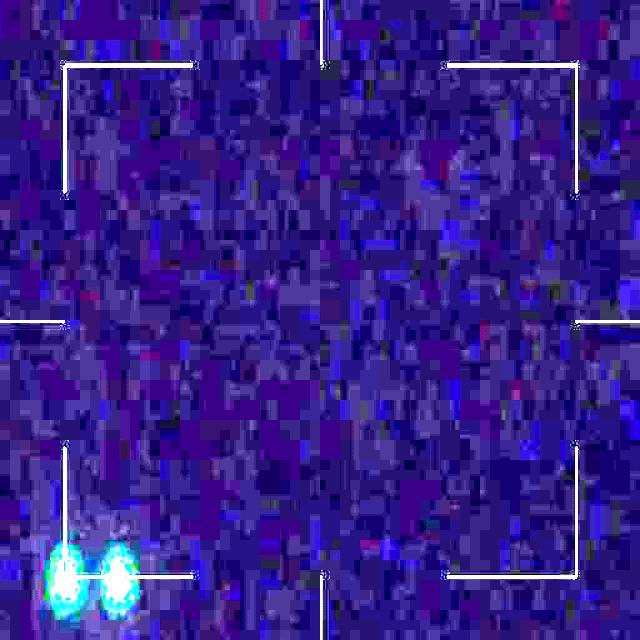bird: (52, 556, 131, 614)
